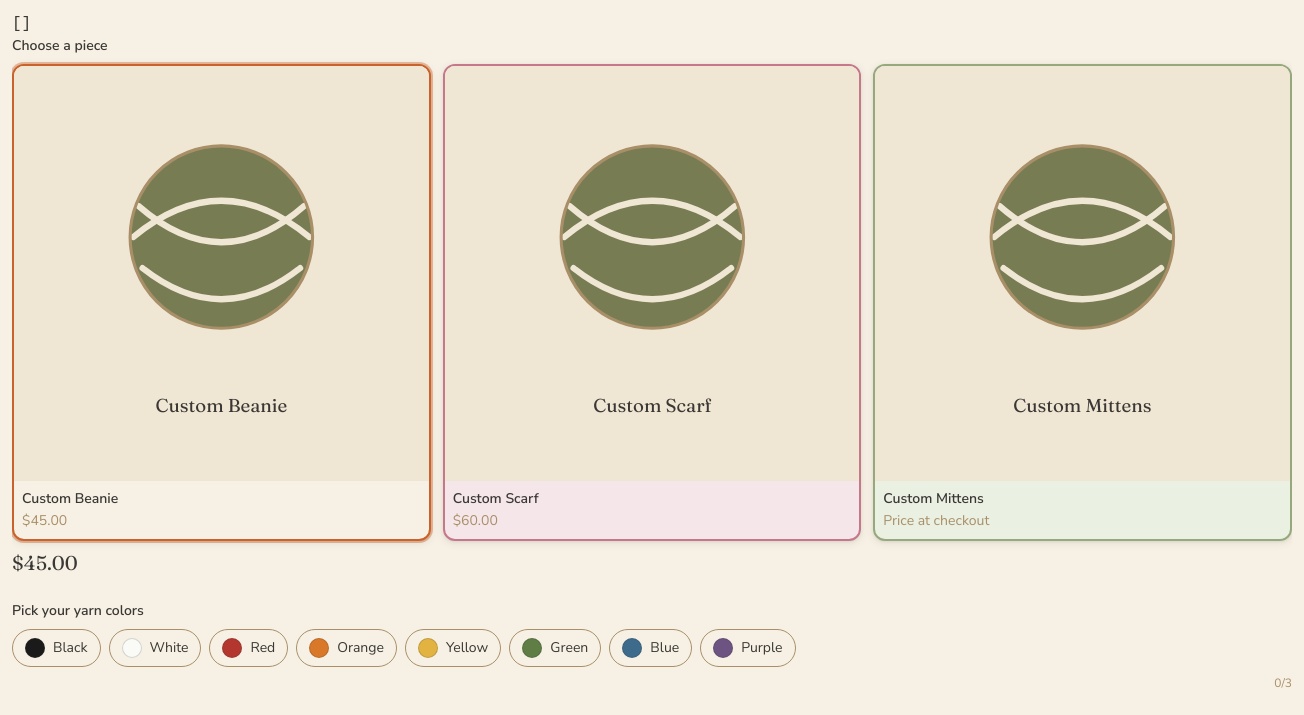
Test: CustomOrderForm › clicking a product card selects it and switches the displayed price
This screenshot has width=1304, height=715.
Expected: the 2nd text "$45.00" is shown, left=12, top=550, right=78, bottom=575
What coordinates should you click on to do the following:
click the button "Custom Scarf Custom Scarf $60.00"
I would click on:
 (652, 302)
Its box is left=443, top=64, right=861, bottom=541.
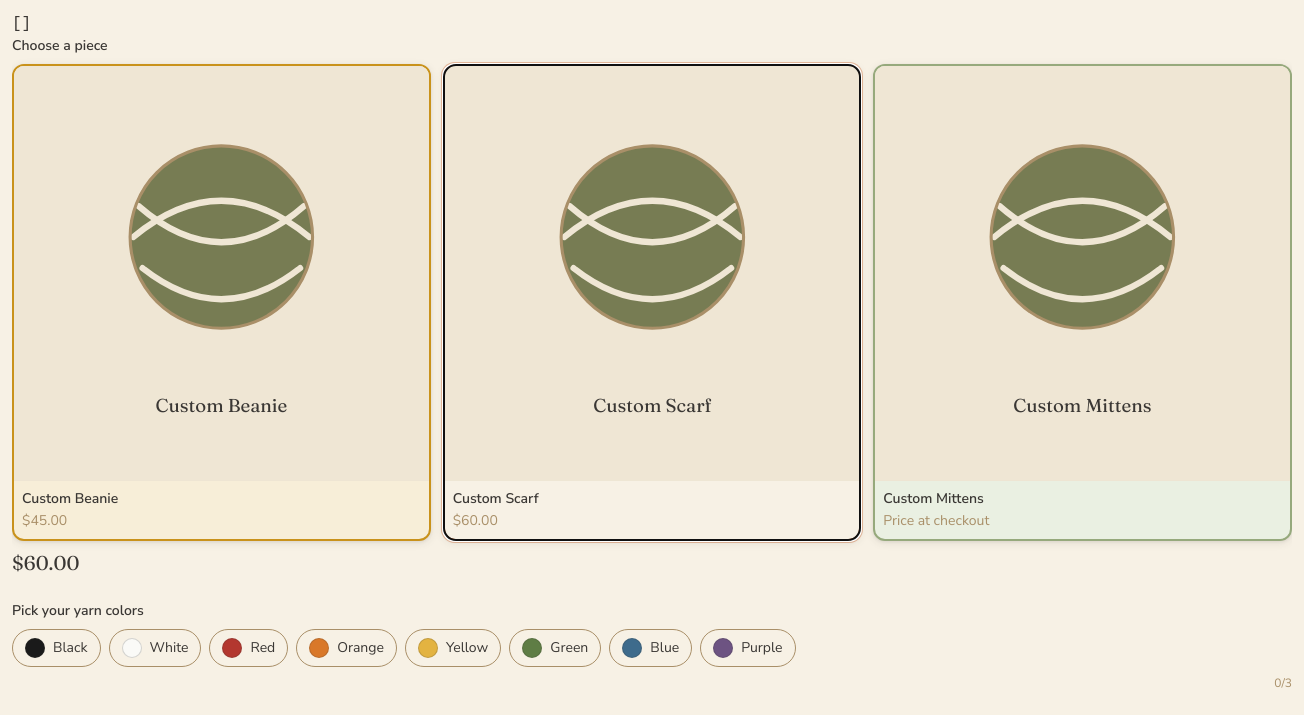
Expected: the 2nd text "$60.00" is shown, left=12, top=550, right=79, bottom=575
